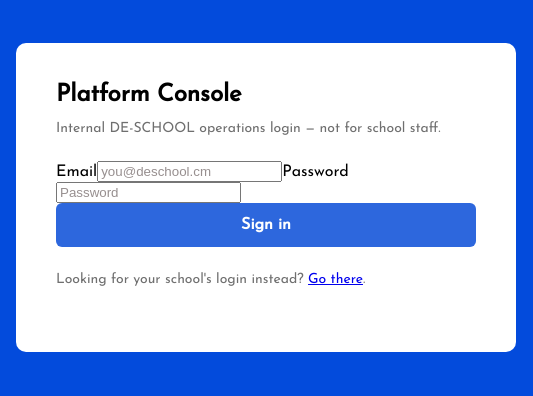
Test: PlatformLogin › shows the real server error message on failed login
This screenshot has width=533, height=396.
Type "x@y.cm" into the field with placeholder "you@deschool.cm" at (190, 171), box [97,160,282,182]
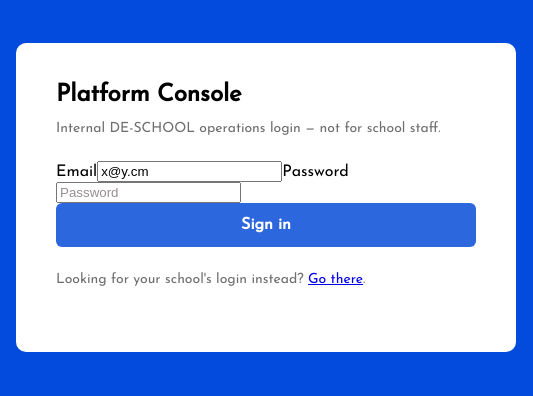
Type "wrong" into the password field with placeholder "Password" at (148, 192), box [56,182,241,202]
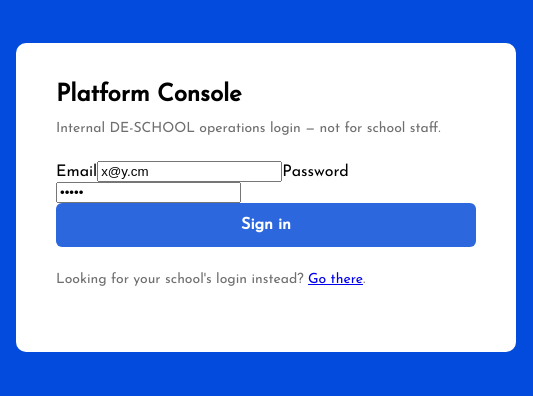
Click the button "Sign in" at (266, 224), box [56,202,476,246]
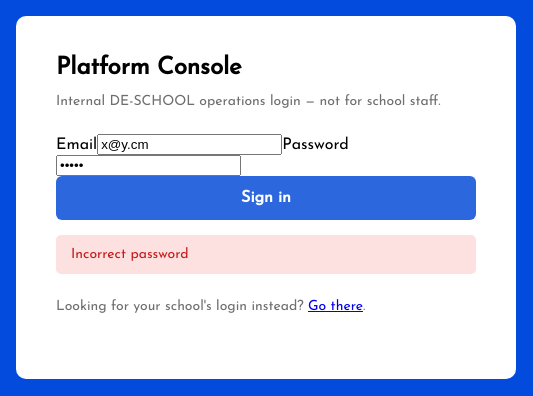
Check: the text "Incorrect password" is shown, box [56,234,476,274]
